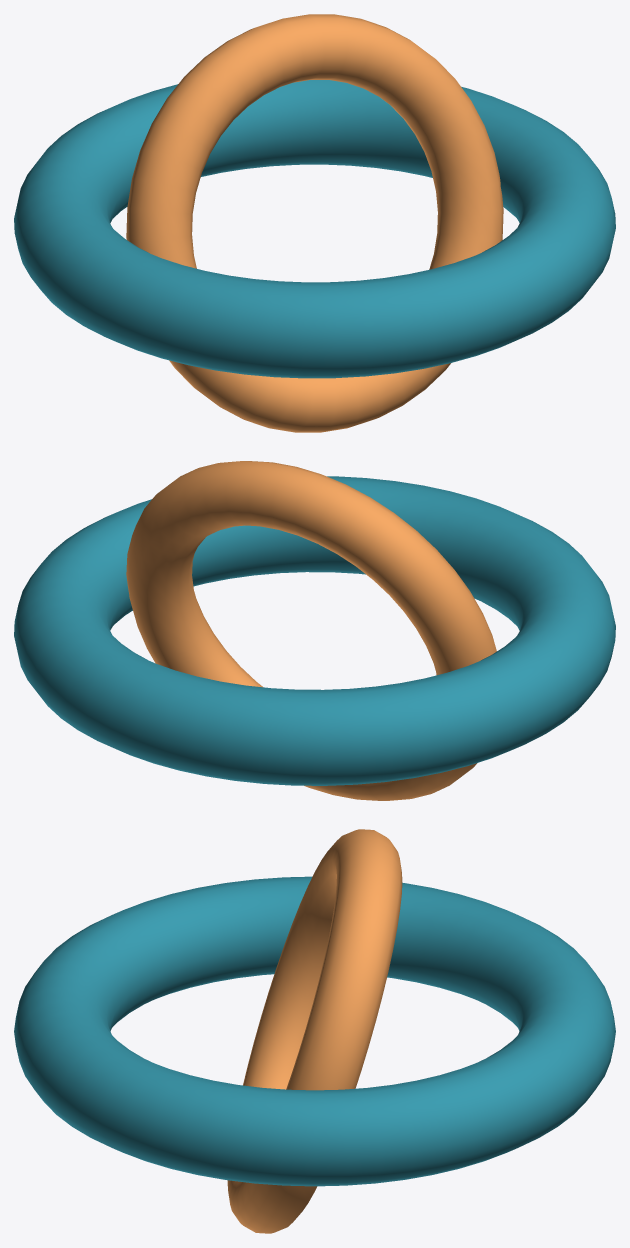
Rendered from anelli.glb.
3 renders of one model, top to bottom at view 1: azimuth 30°, elevation 25°; view 2: azimuth 150°, elevation 25°; view 3: azimuth 270°, elevation 25°, orthographic.
Bounding box in the file's own units: 2.38 × 1.59 × 2.38.
